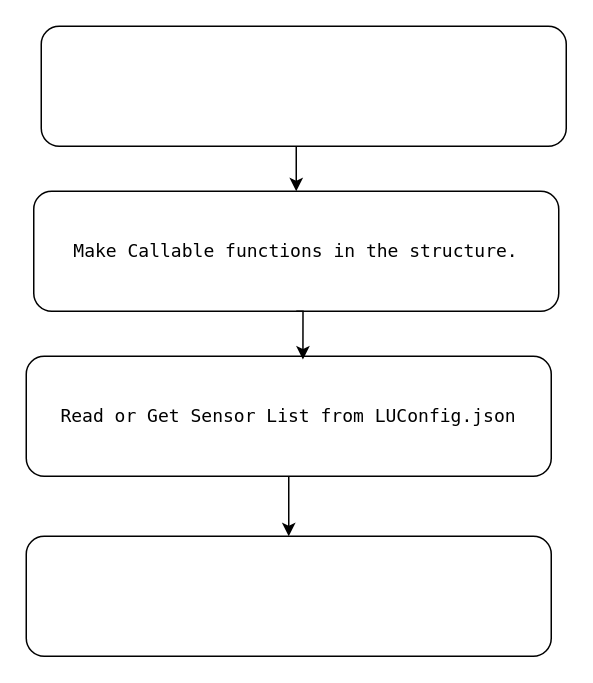
Image size: 593x683. Some labels were removed from this diagram. The shapes that lost their labels are listed below. From the top down, each one's centre as x and y in pixels, then its label:
At [303,85]: "Make Data Structre for each sensor object.".
At [288,595]: "Create/Delete Sensor object array dynamically".
